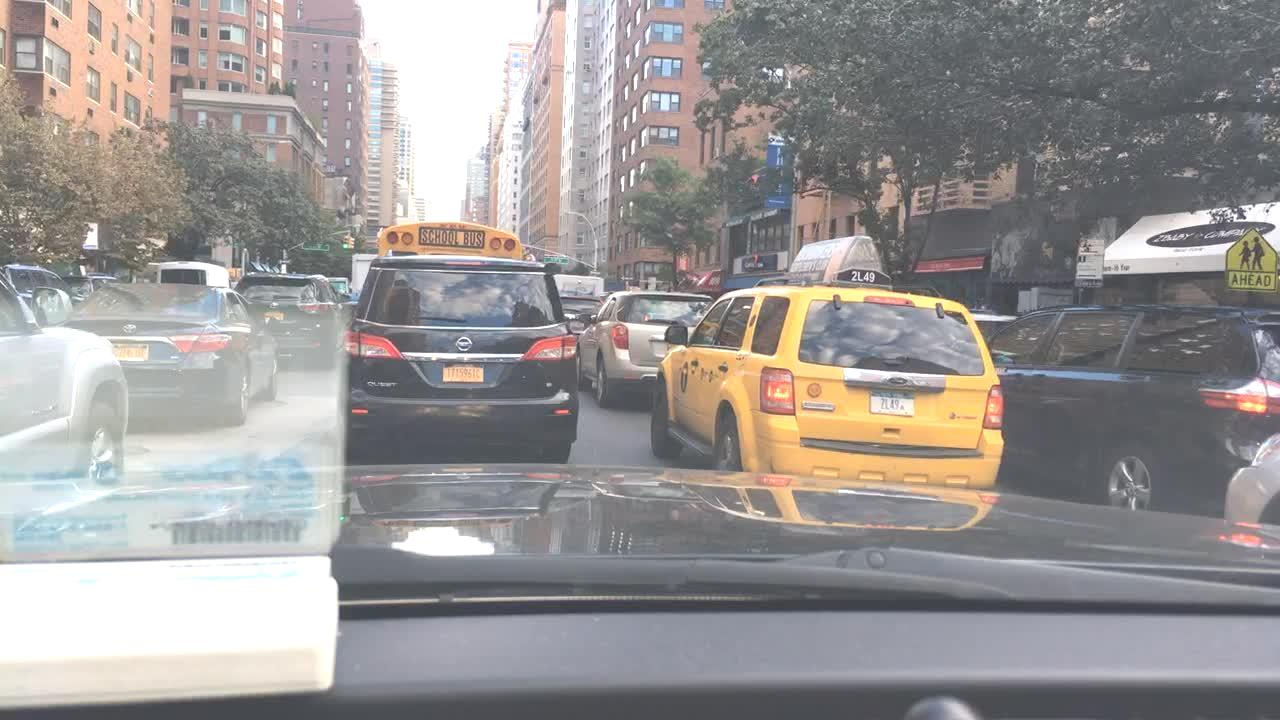Nissan: (448, 333, 478, 355)
Toyota: (120, 318, 145, 340)
ford: (877, 372, 922, 397)
